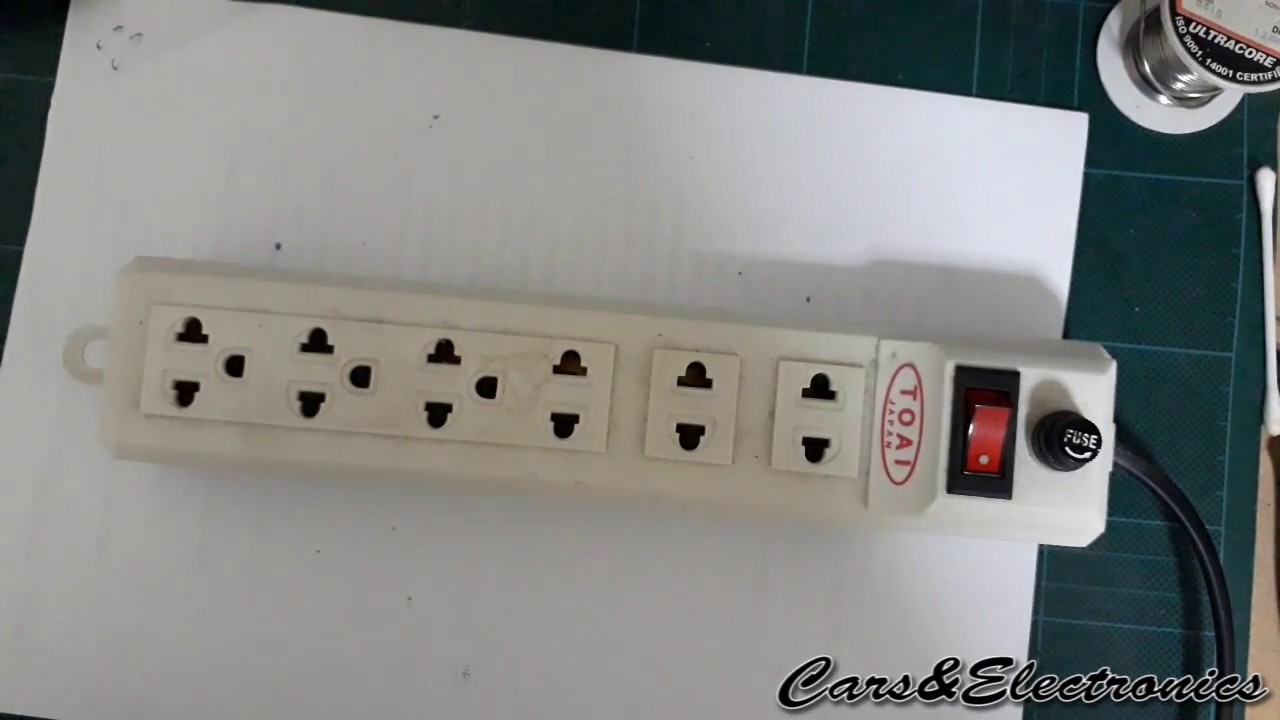Three_eye_plug: (45, 244, 1146, 582)
